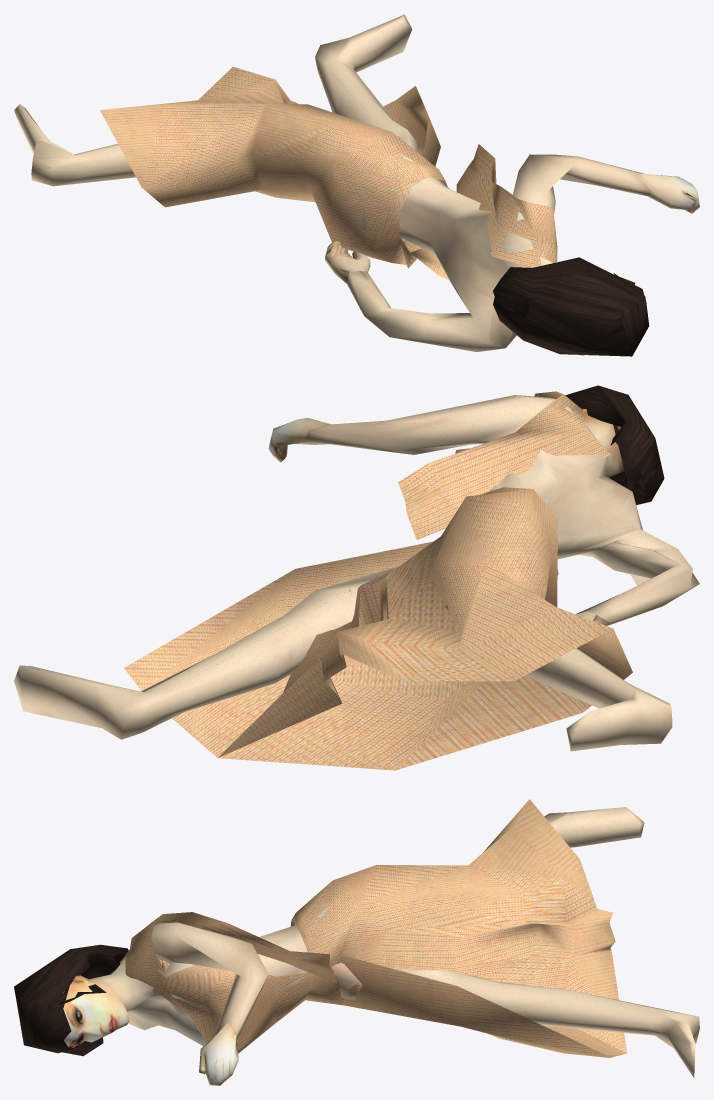
File: female_000111.obj
3 renders of one model, top to bottom at view 1: azimuth 30°, elevation 25°; view 2: azimuth 150°, elevation 25°; view 3: azimuth 270°, elevation 25°, orthographic. The views are drawn at different scales.
Visible parts, largest first — view 1: saree_Cylinder, body.001_omino.012, hair.000_omino.000; view 2: saree_Cylinder, body.001_omino.012, hair.000_omino.000; view 3: saree_Cylinder, body.001_omino.012, hair.000_omino.000.
Part boxes in pixels (x1=…): saree_Cylinder: x1=100, y1=67, x2=557, y2=279; body.001_omino.012: x1=14, y1=14, x2=699, y2=351; hair.000_omino.000: x1=493, y1=257, x2=649, y2=356; saree_Cylinder: x1=124, y1=391, x2=632, y2=770; body.001_omino.012: x1=14, y1=395, x2=699, y2=751; hair.000_omino.000: x1=565, y1=385, x2=664, y2=504; saree_Cylinder: x1=119, y1=799, x2=626, y2=1057; body.001_omino.012: x1=63, y1=807, x2=699, y2=1085; hair.000_omino.000: x1=14, y1=944, x2=128, y2=1056.
Bounding box in the file's own units: 2.03 × 0.5903 × 2.53.
